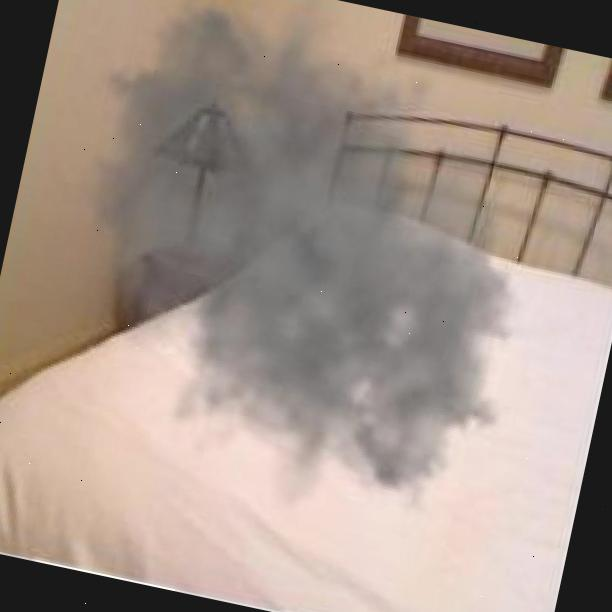smoke: (0, 0, 609, 556)
